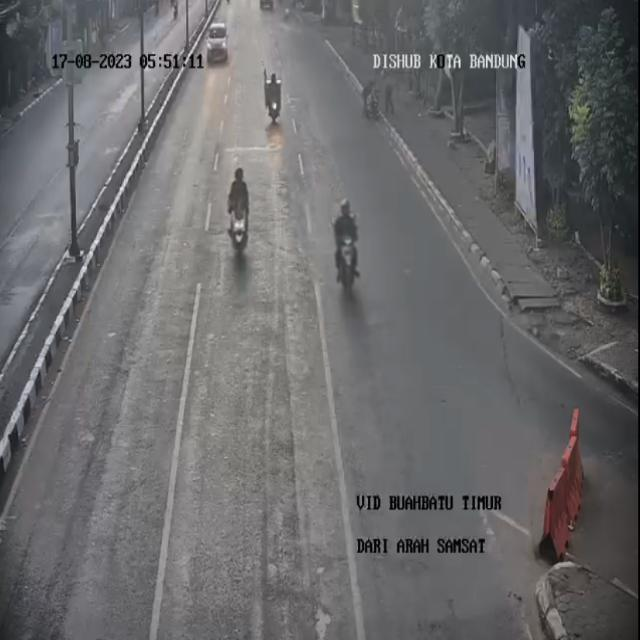cars: (206, 21, 231, 69)
motorcycle: (332, 193, 367, 301), (227, 163, 259, 268), (260, 64, 289, 132), (280, 0, 295, 27)
